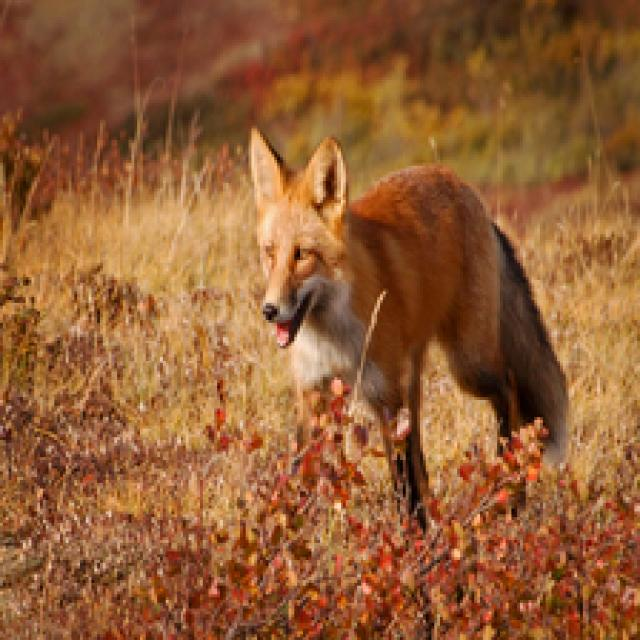fox: (223, 117, 605, 573)
